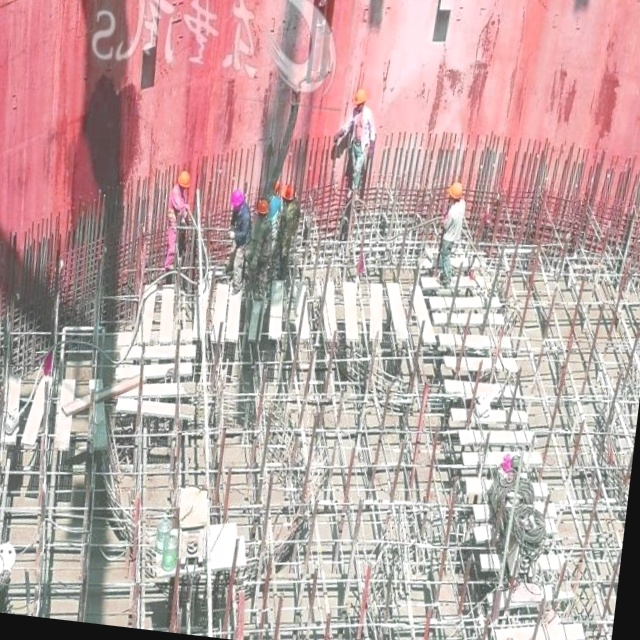Con_Casco: (446, 180, 464, 204), (177, 169, 193, 190)
